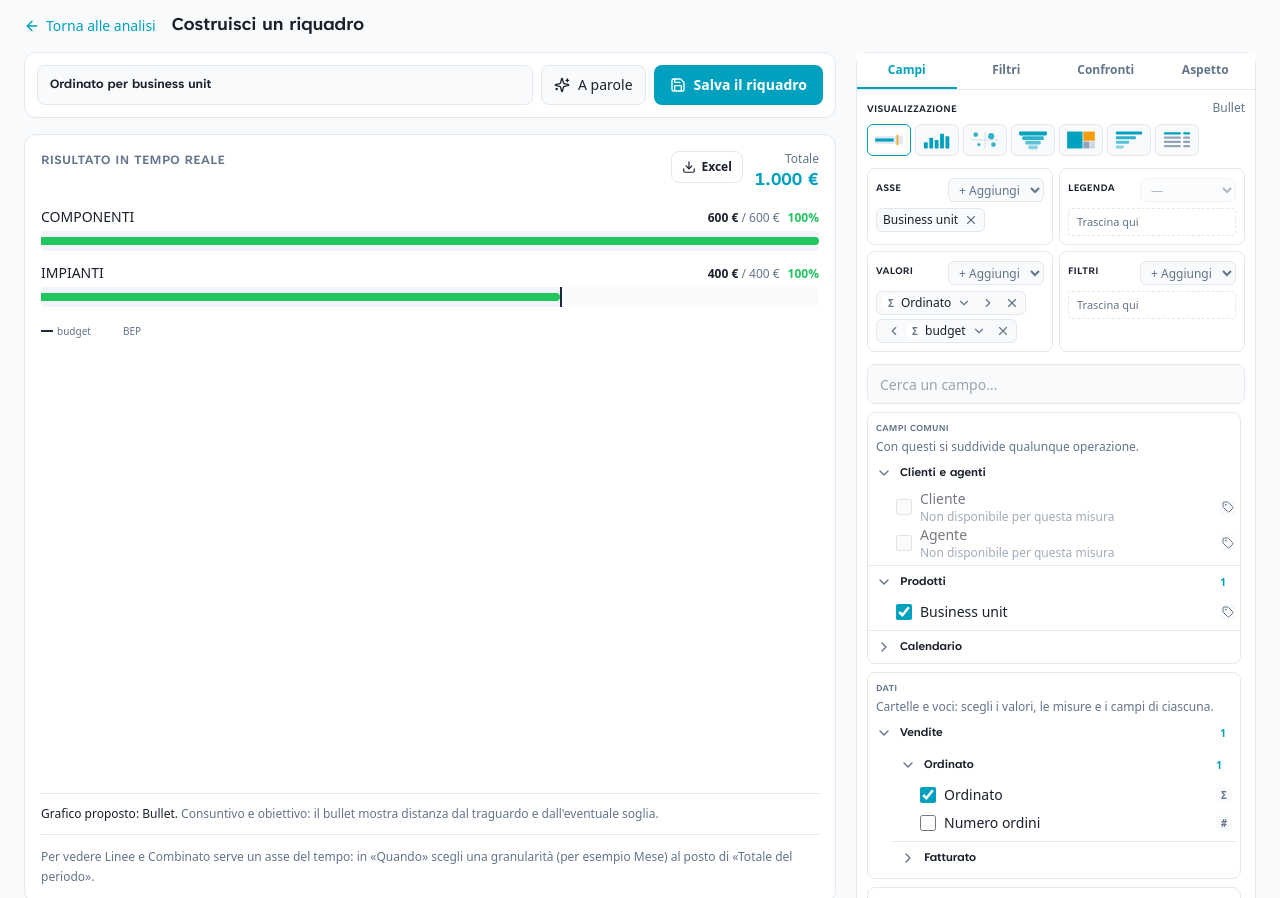
modifica a parole dentro l'editor › «Annulla l'ultima modifica» riporta serie, filtri e budget com'erano, e il bottone sparisce
The image size is (1280, 898).
Click the button "A parole" at {"x": 593, "y": 85}, box [541,65,646,105]
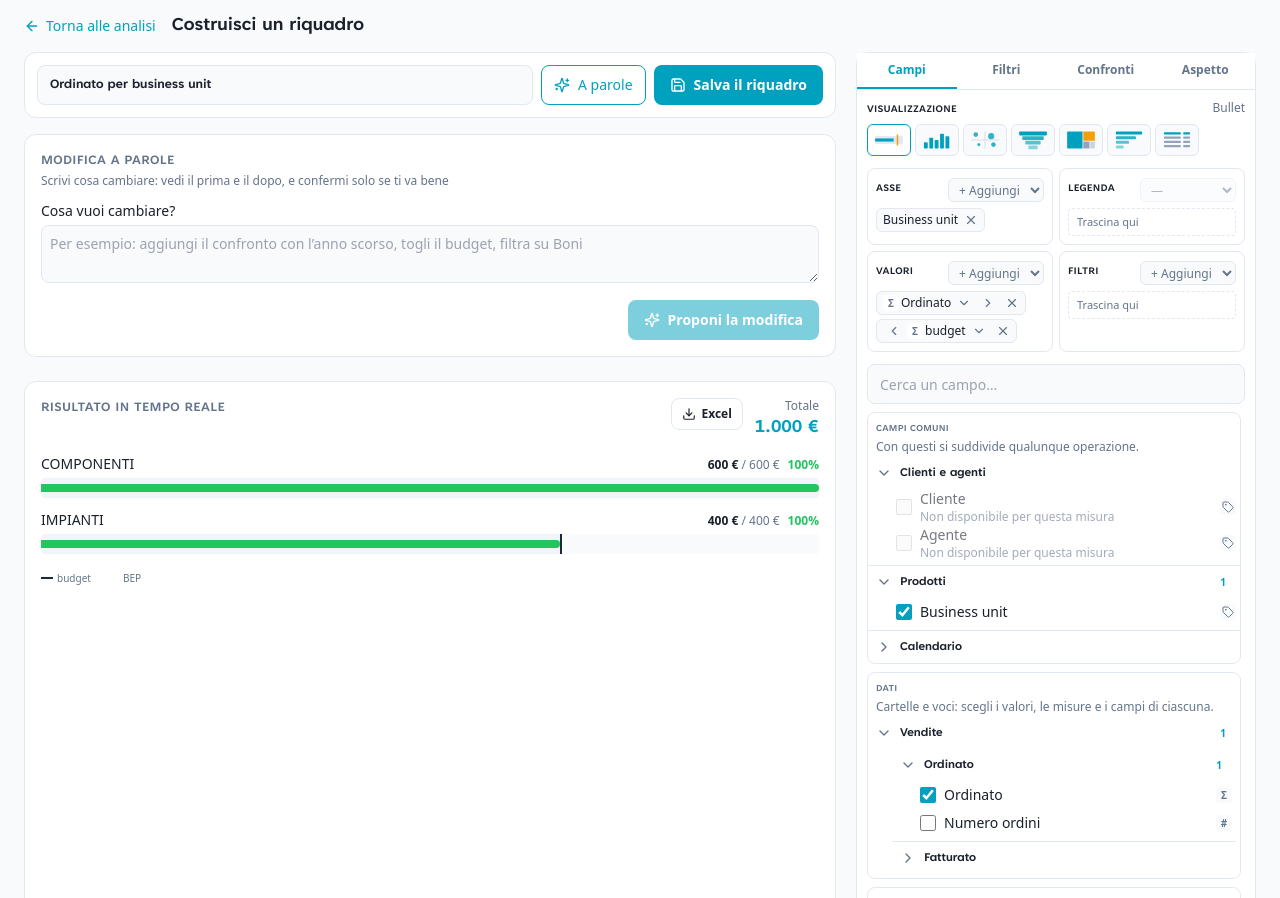
Replace the text in the text box labelled "Cosa vuoi cambiare?" with "aggiungi il confronto con l'anno scorso, togli il budget, filtra su Boni" at {"x": 430, "y": 254}, box [41,225,819,283]
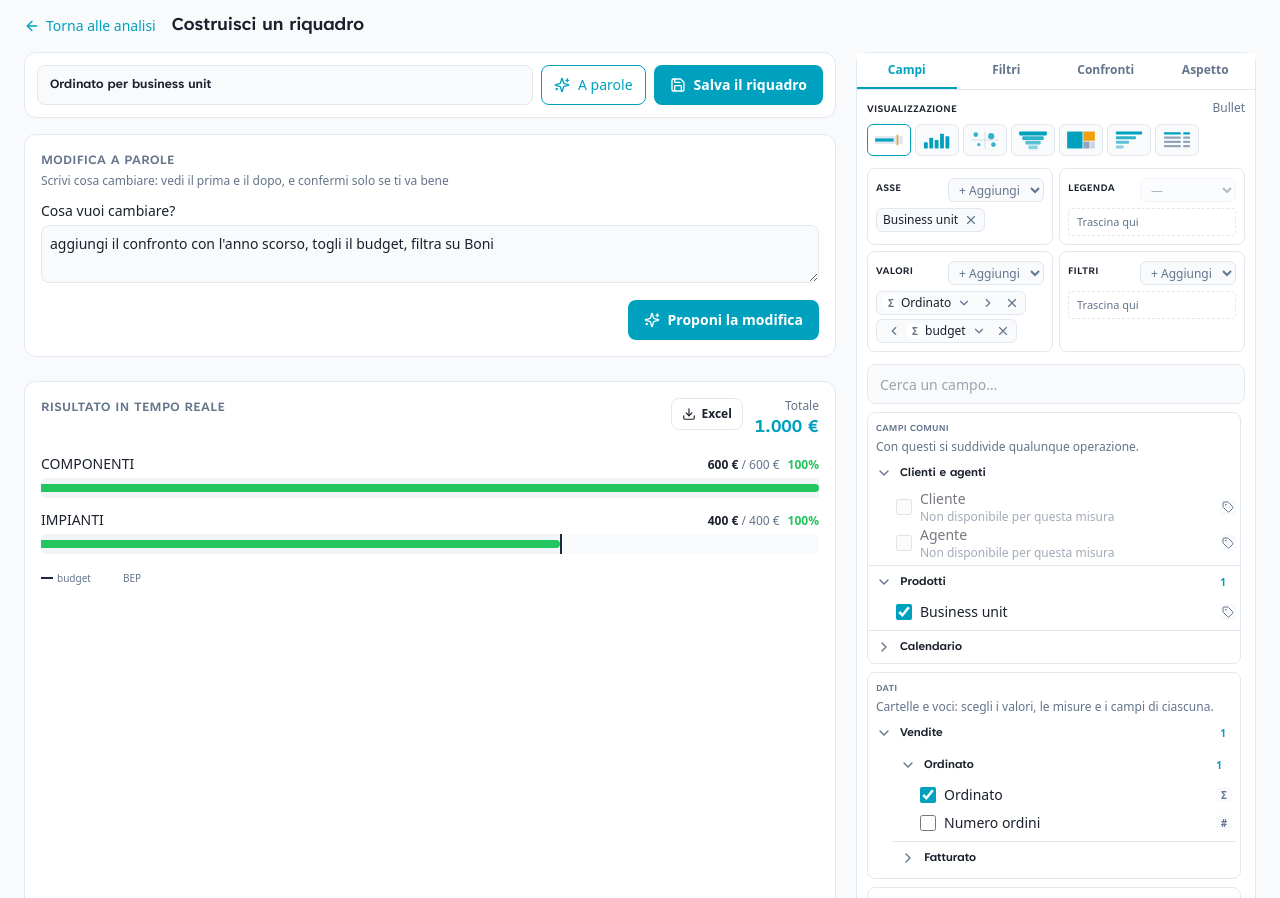
Click the button "Proponi la modifica" at {"x": 723, "y": 320}, box [628,300,819,340]
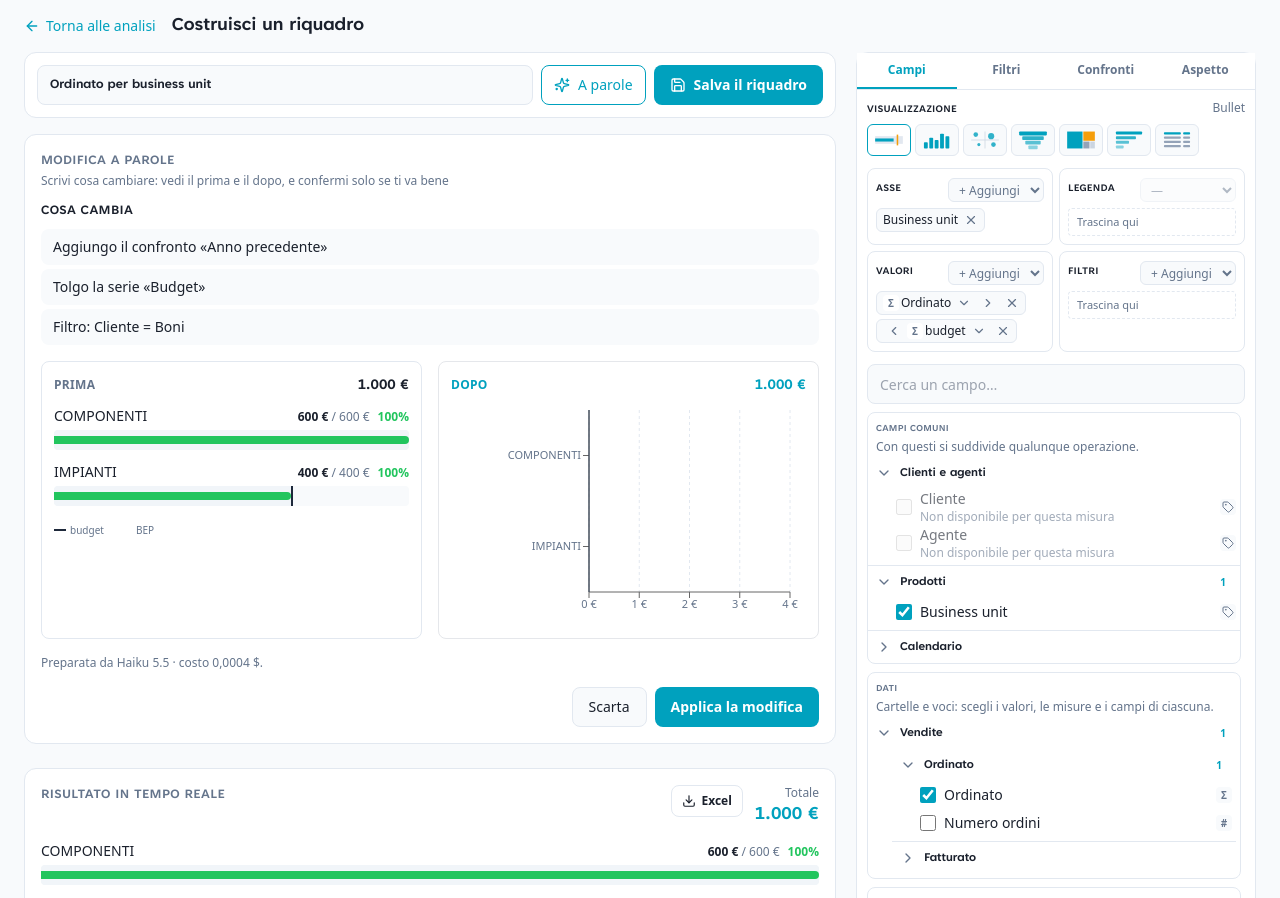
Click the button "Applica la modifica" at {"x": 737, "y": 707}, box [654,687,819,727]
Wait 400 ms
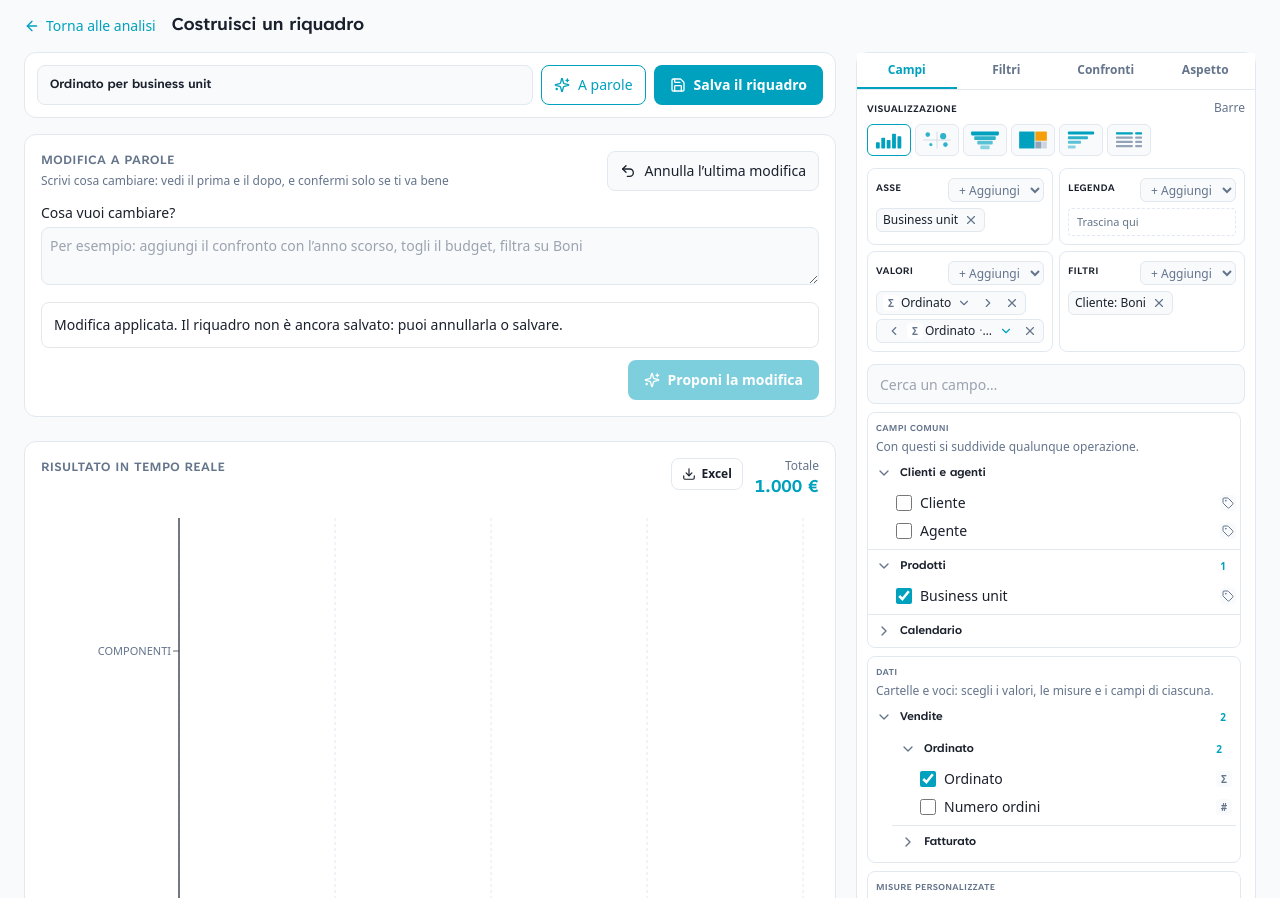
Click the button "Annulla l’ultima modifica" at {"x": 713, "y": 171}, box [607,151,819,191]
Wait 400 ms
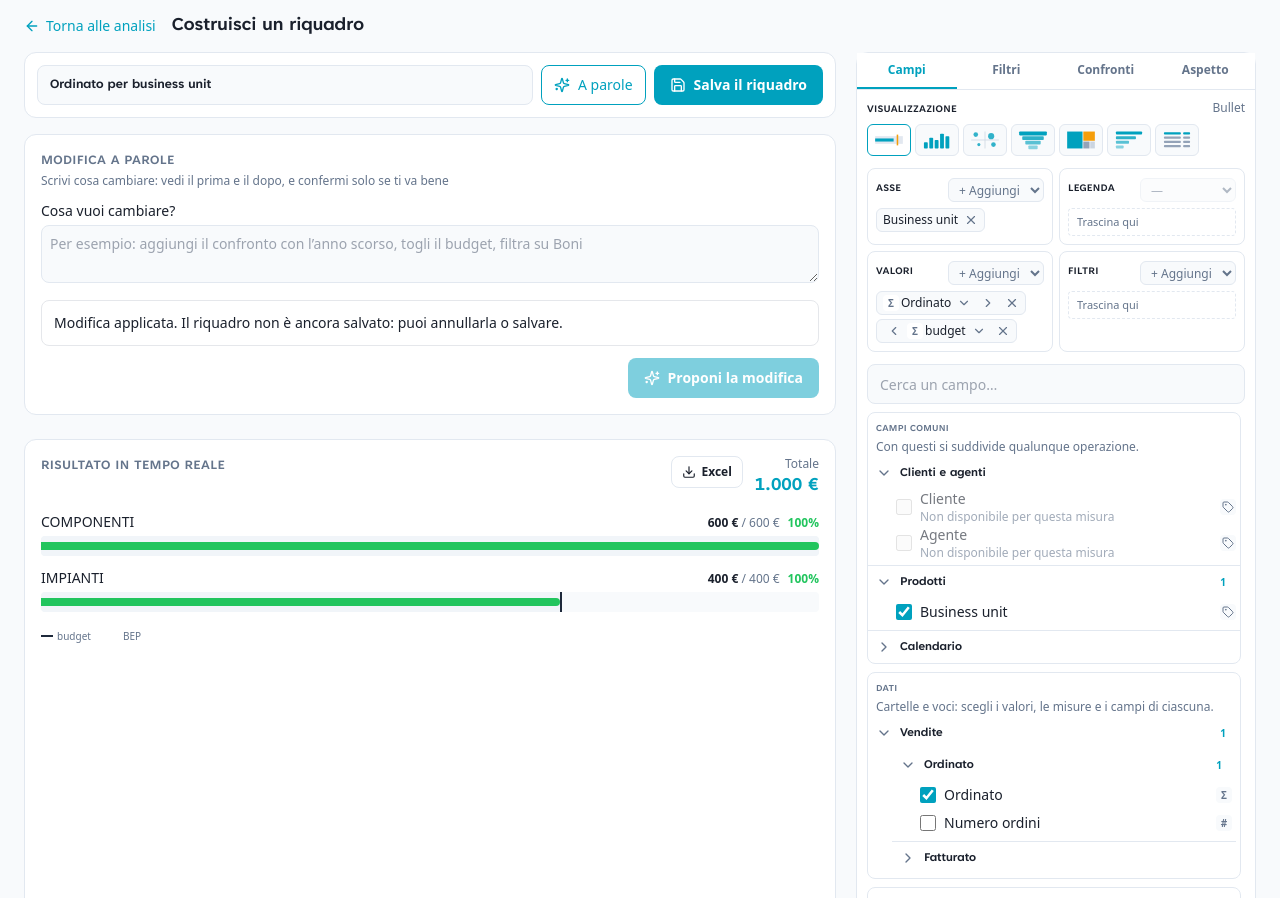
Expected: the button "Annulla l’ultima modifica" is gone
